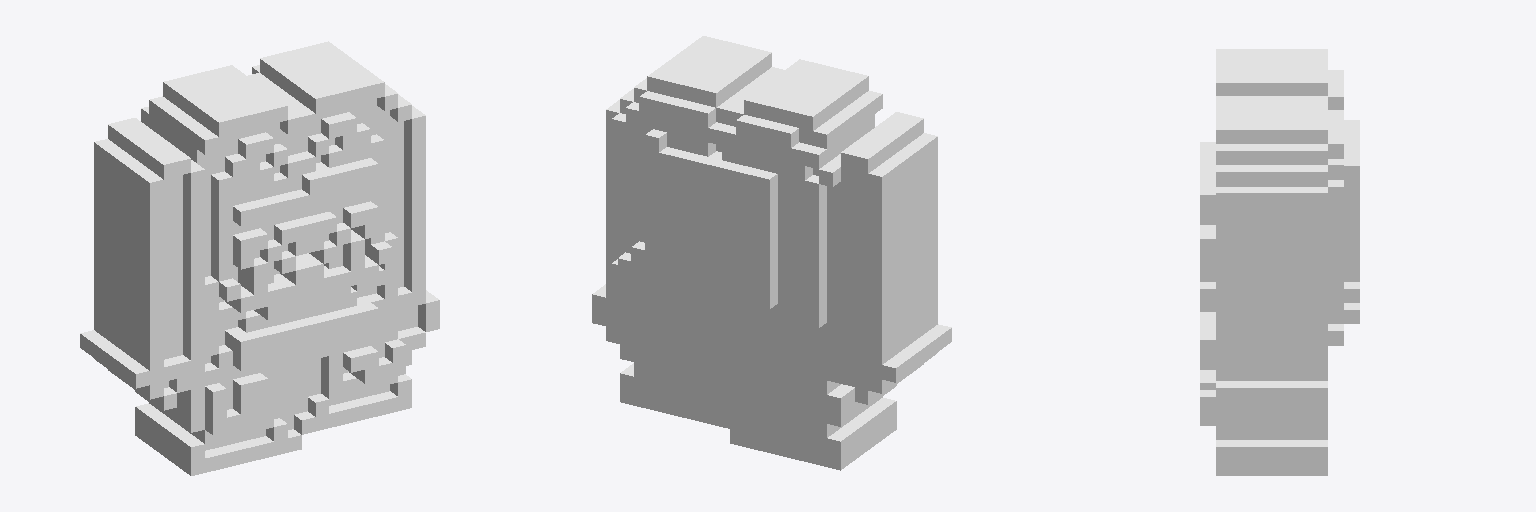
Rendered from Icon_007_03-0-Icon-007-02.obj.
3 views of the same model, side by side, from view 1: azimuth 30°, elevation 25°; view 2: azimuth 150°, elevation 25°; view 3: azimuth 270°, elevation 25° (orthographic).
Parts seen in each view (by area): view 1: Icon-007-02; view 2: Icon-007-02; view 3: Icon-007-02.
Part boxes in pixels (left/top/right/bottom): Icon-007-02: left=80, top=41, right=439, bottom=475; Icon-007-02: left=592, top=36, right=951, bottom=470; Icon-007-02: left=1200, top=49, right=1359, bottom=475.
Size of the model in its own units: 2.2 by 2.4 by 1.